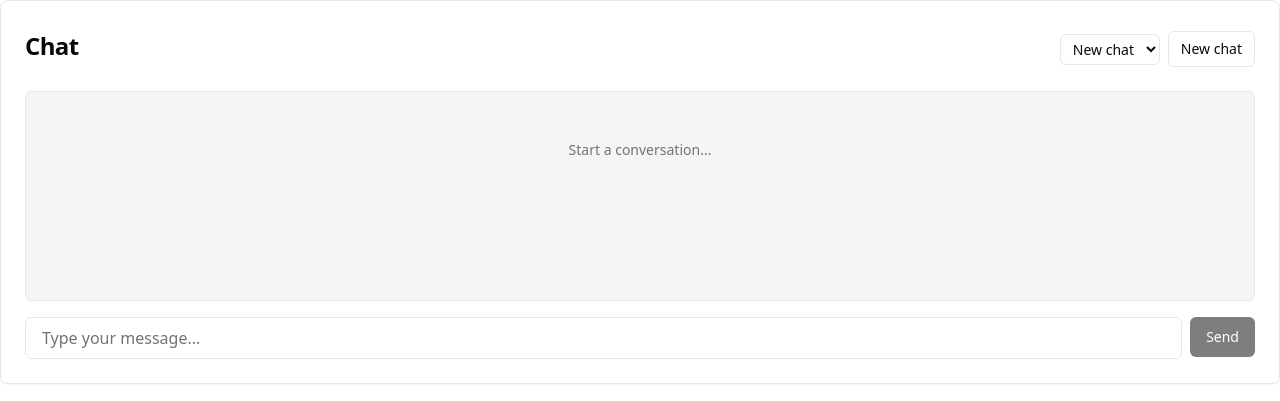
Test case: ChatWindow › should restore the typed message to the input after a failed send, instead of leaving it empty
In the field with placeholder "Type your message...": (604, 338) 25,317 -> 1182,359, type "My unsent message"
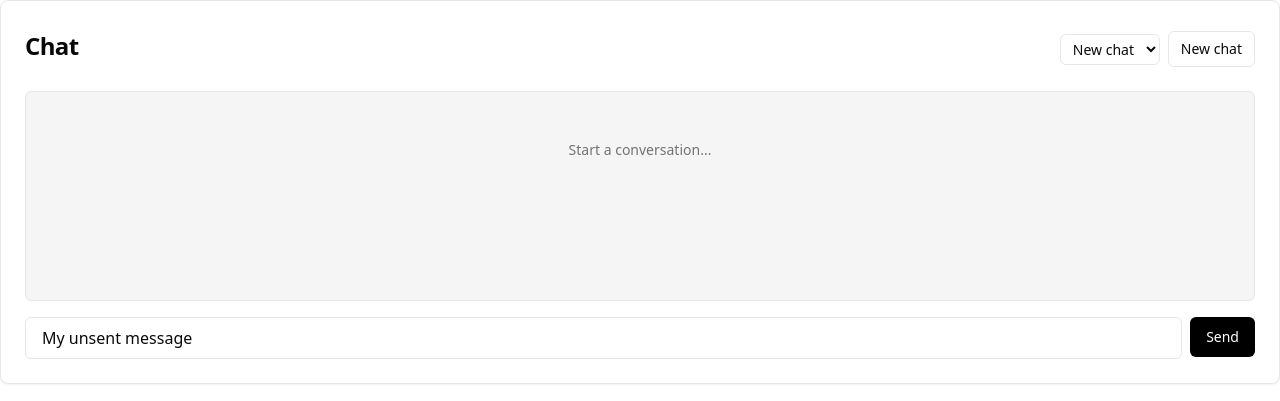
Click the button "Send": (1223, 337) 1190,317 -> 1255,357
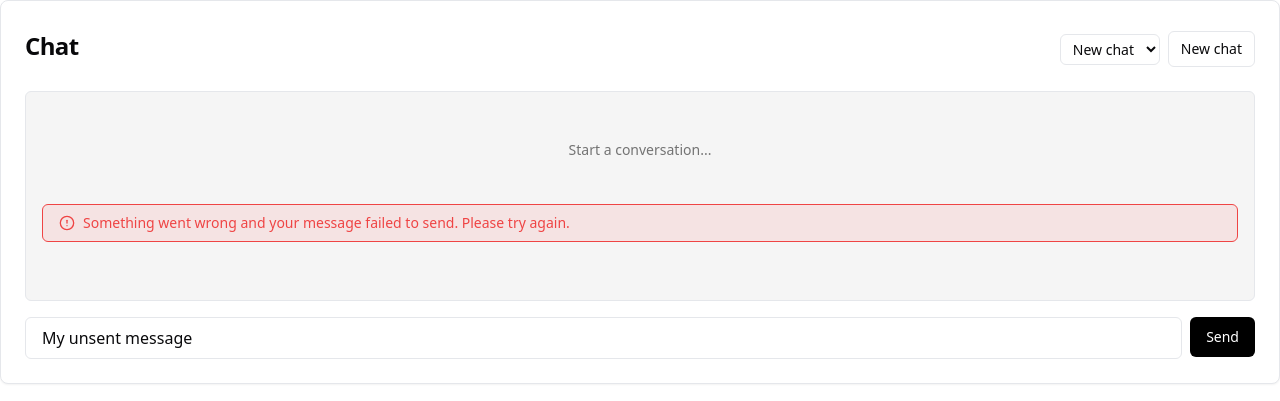
Check: the text "Something went wrong" is shown, box 83,213 -> 570,232
